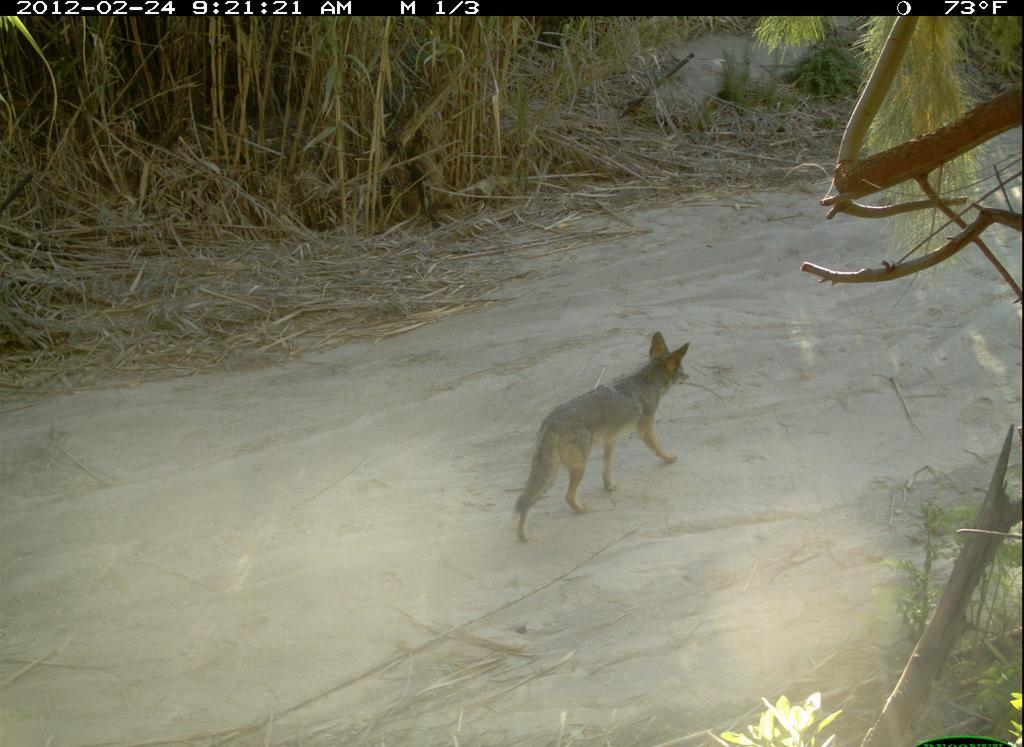coyote: (507, 326, 699, 552)
